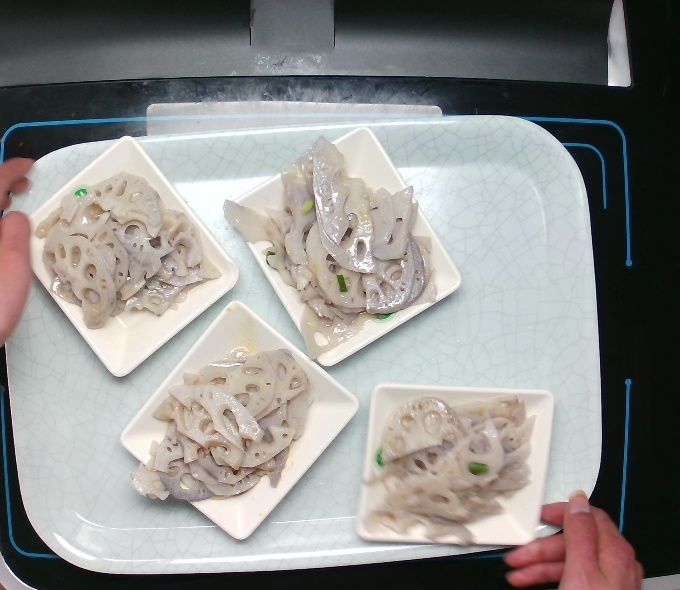wcq-OuPian: (220, 134, 443, 361), (33, 165, 236, 337), (125, 343, 320, 513), (359, 391, 542, 551)
